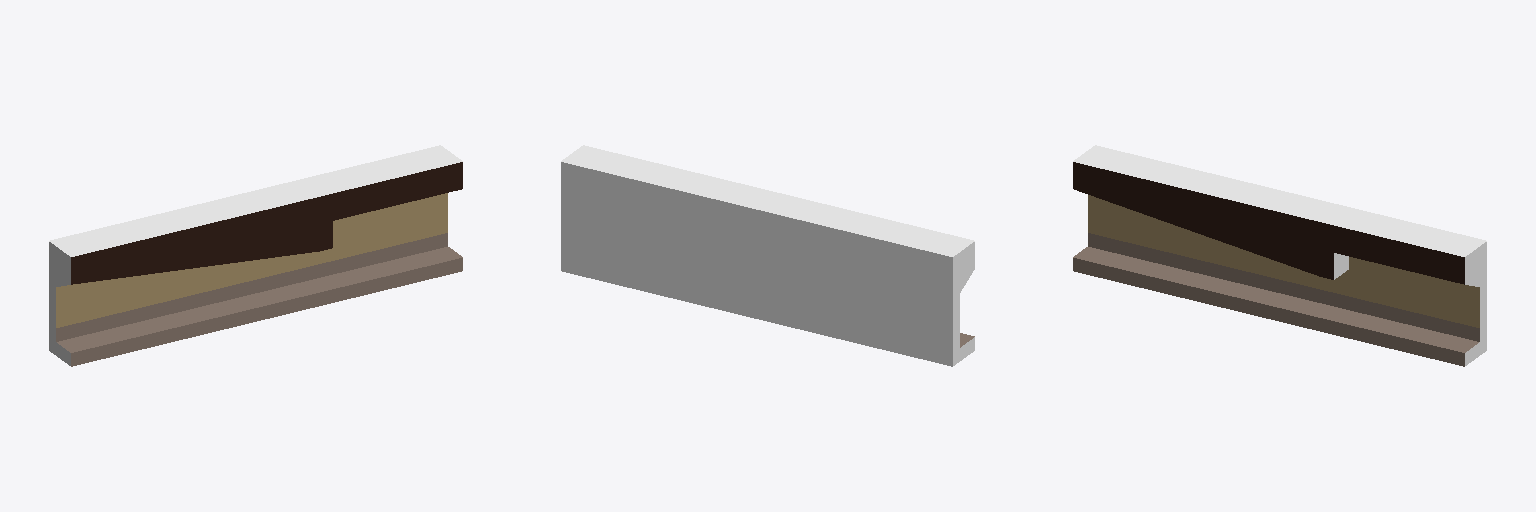
File: Lvl1.obj
3 views of the same model, side by side, from view 1: azimuth 30°, elevation 25°; view 2: azimuth 150°, elevation 25°; view 3: azimuth 330°, elevation 25° (orthographic).
Parts seen in each view (by area): view 1: Mesh1 Model; view 2: Mesh1 Model; view 3: Mesh1 Model.
Boxes of the visible parts, x1,y1,x2,y2 form: Mesh1 Model: [49, 145, 462, 366]; Mesh1 Model: [561, 145, 974, 366]; Mesh1 Model: [1073, 145, 1486, 366].
Bounding box in the file's own units: 360 × 96 × 36.